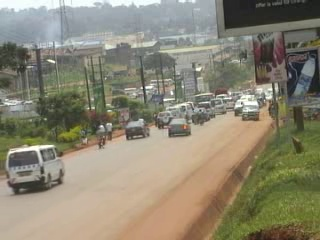Car: (124, 117, 152, 141), (165, 117, 194, 138), (155, 110, 177, 130), (196, 98, 215, 120), (209, 95, 228, 115), (222, 95, 236, 111)
Motorcycle: (95, 126, 108, 150), (194, 108, 205, 126)
